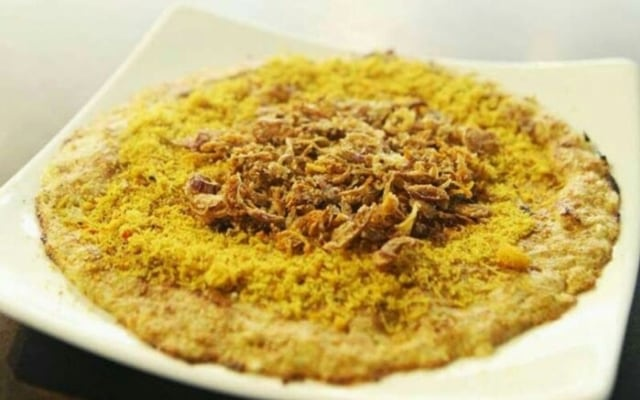kerak_telor: (38, 50, 624, 379)
